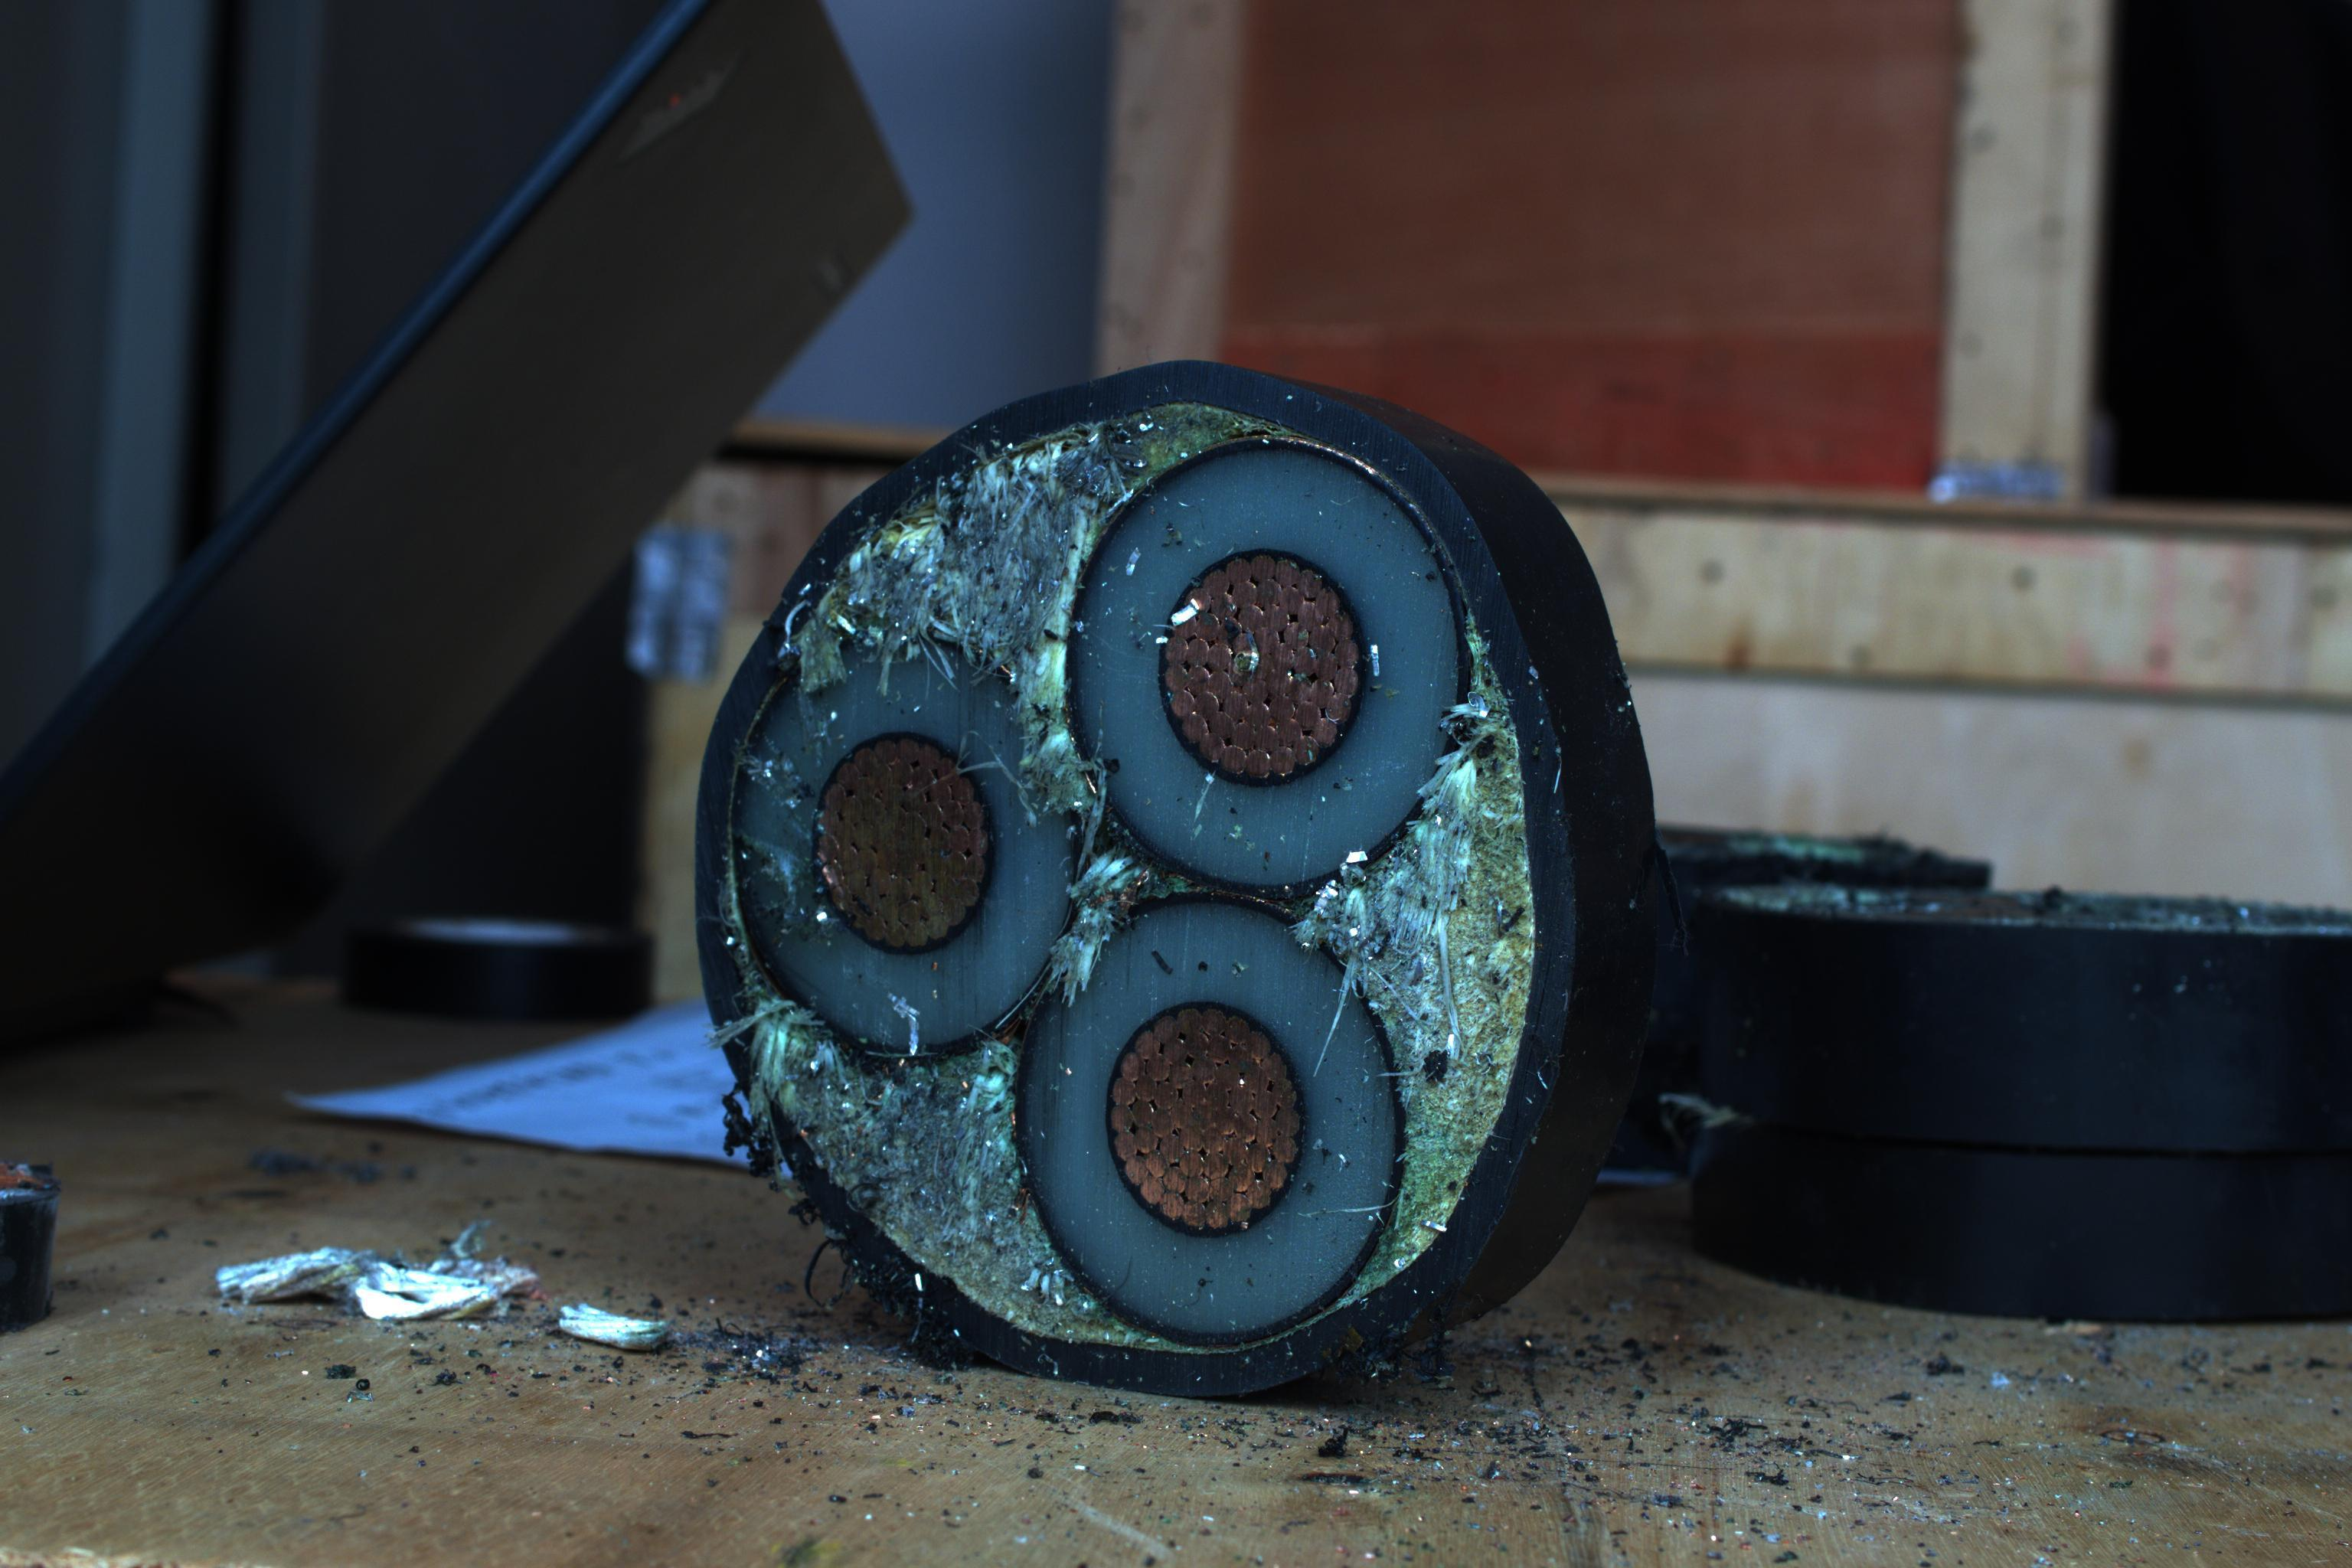ZA_YJV_26_35kV_3x400: (677, 401, 1517, 1370)
